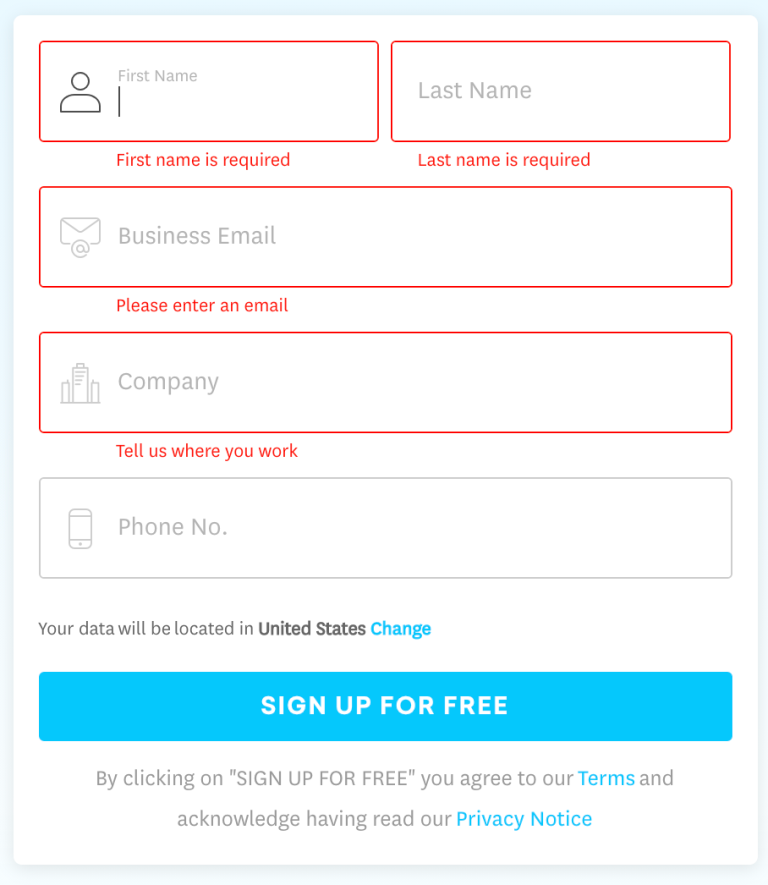error_field: (37, 185, 734, 289), (38, 330, 734, 433), (389, 38, 733, 145), (37, 39, 381, 143)
error_message: (112, 295, 295, 320), (113, 439, 305, 461), (113, 150, 292, 173), (411, 147, 593, 169)
